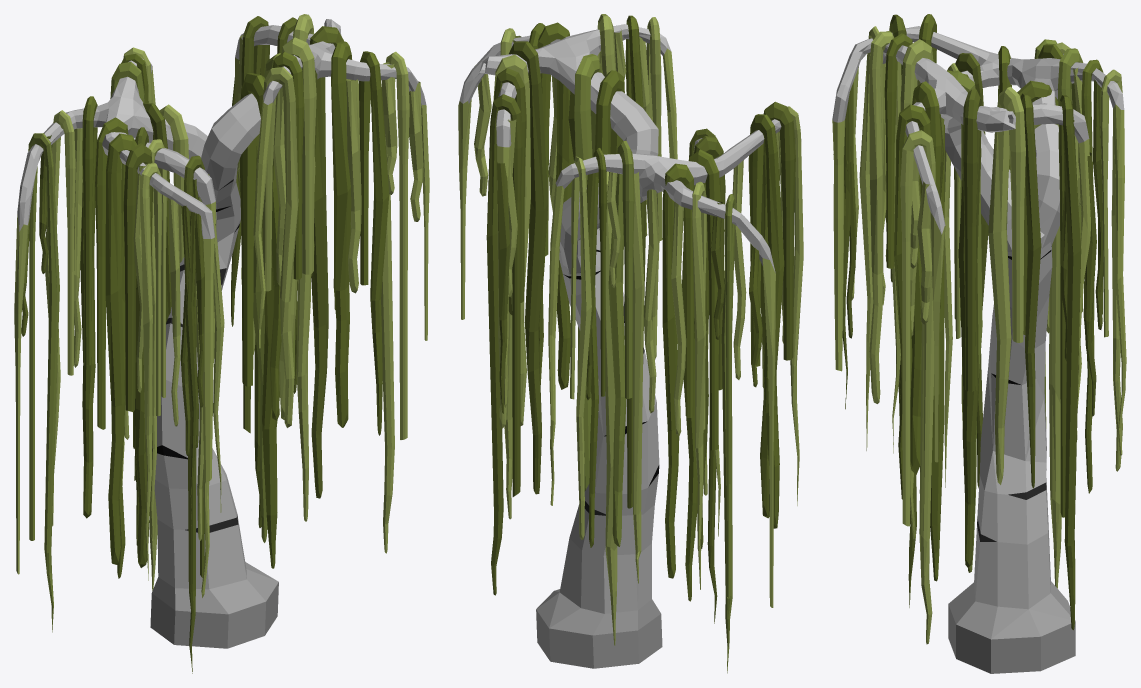
File: EA03_Nature_Tree_03c.glb
3 renders of one model, left to right at view 1: azimuth 30°, elevation 25°; view 2: azimuth 150°, elevation 25°; view 3: azimuth 270°, elevation 25°, orthographic. The views are drawn at different scales.
Parts seen in each view (by area): view 1: EA03_Nature_Tree_03c; view 2: EA03_Nature_Tree_03c; view 3: EA03_Nature_Tree_03c.
Boxes of the visible parts, left/top/right/bottom form: EA03_Nature_Tree_03c: left=14, top=14, right=429, bottom=673; EA03_Nature_Tree_03c: left=458, top=14, right=803, bottom=673; EA03_Nature_Tree_03c: left=832, top=14, right=1126, bottom=673.
Size of the model in its own units: 7.49 by 11.8 by 5.03.
Materials: 1 (1 with a texture image).
